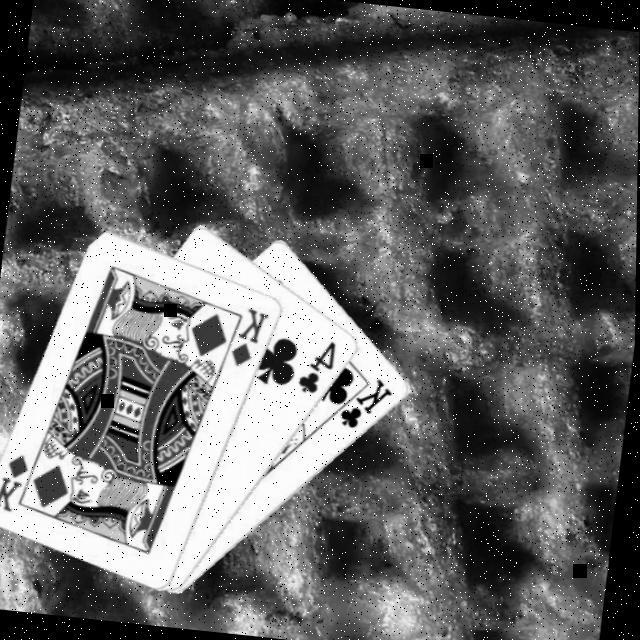4C: (292, 332, 340, 397)
KC: (323, 368, 397, 434)
KD: (225, 301, 271, 371), (0, 446, 33, 514)
